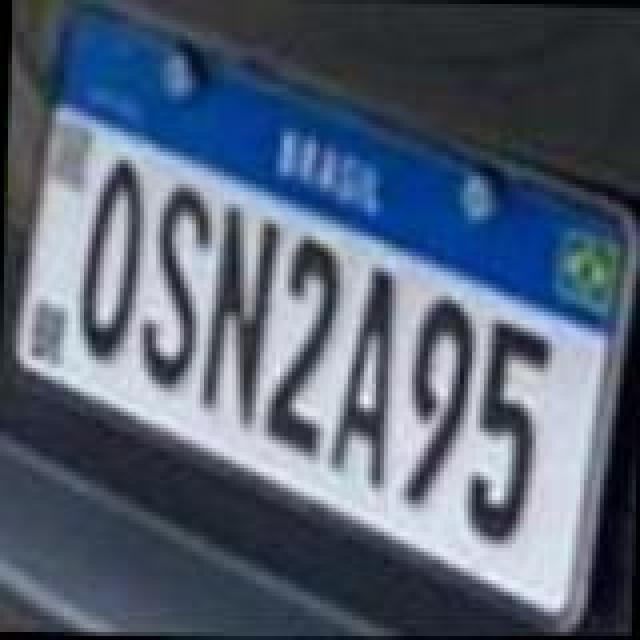2: (262, 238, 342, 462)
5: (464, 316, 552, 548)
9: (400, 294, 476, 510)
A: (322, 260, 394, 492)
N: (198, 202, 282, 430)
O: (74, 154, 146, 366)
S: (136, 174, 212, 386)
